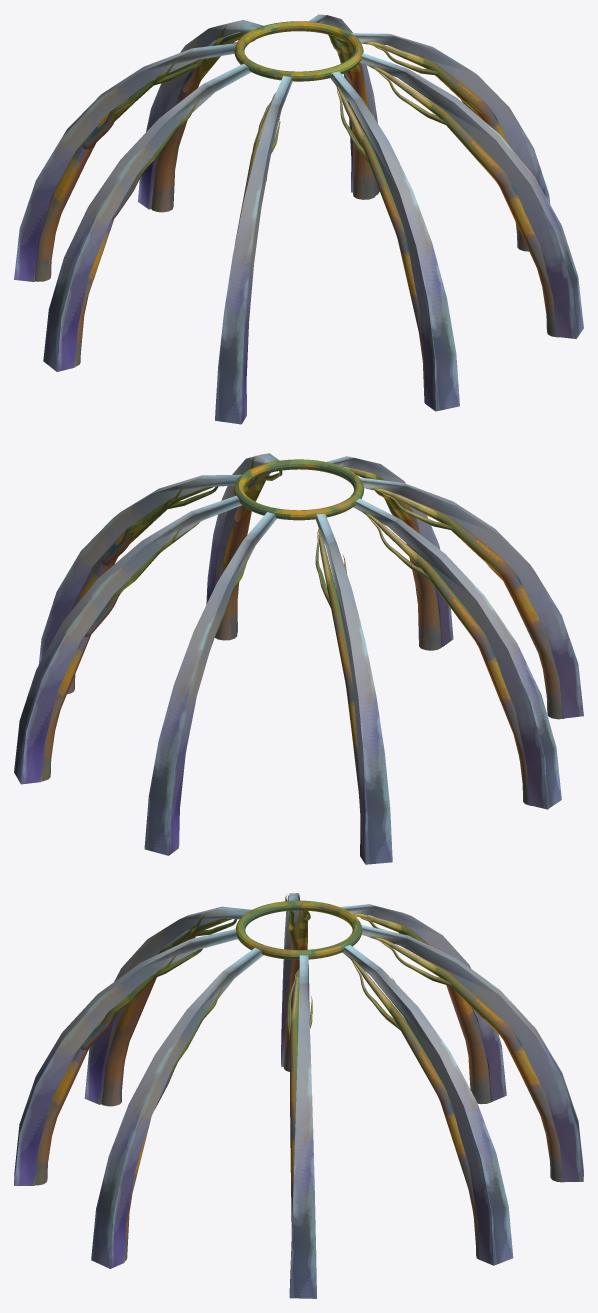
The model's file is LO_dome_struts.glb.
3 renders of one model, top to bottom at view 1: azimuth 30°, elevation 25°; view 2: azimuth 150°, elevation 25°; view 3: azimuth 270°, elevation 25°, orthographic. The views are drawn at different scales.
Parts seen in each view (by area): view 1: BézierCurve.003, Torus; view 2: BézierCurve.003, Torus; view 3: BézierCurve.003, Torus.
Part boxes in pixels (box(x1,y1,x2,y2)): BézierCurve.003: box(14, 14, 583, 424); Torus: box(234, 21, 363, 81); BézierCurve.003: box(14, 453, 583, 864); Torus: box(233, 459, 364, 520); BézierCurve.003: box(14, 893, 583, 1298); Torus: box(235, 900, 362, 959).
Bounding box in the file's own units: 17.32 × 8.49 × 17.32.
Materials: 2 (2 with a texture image).
